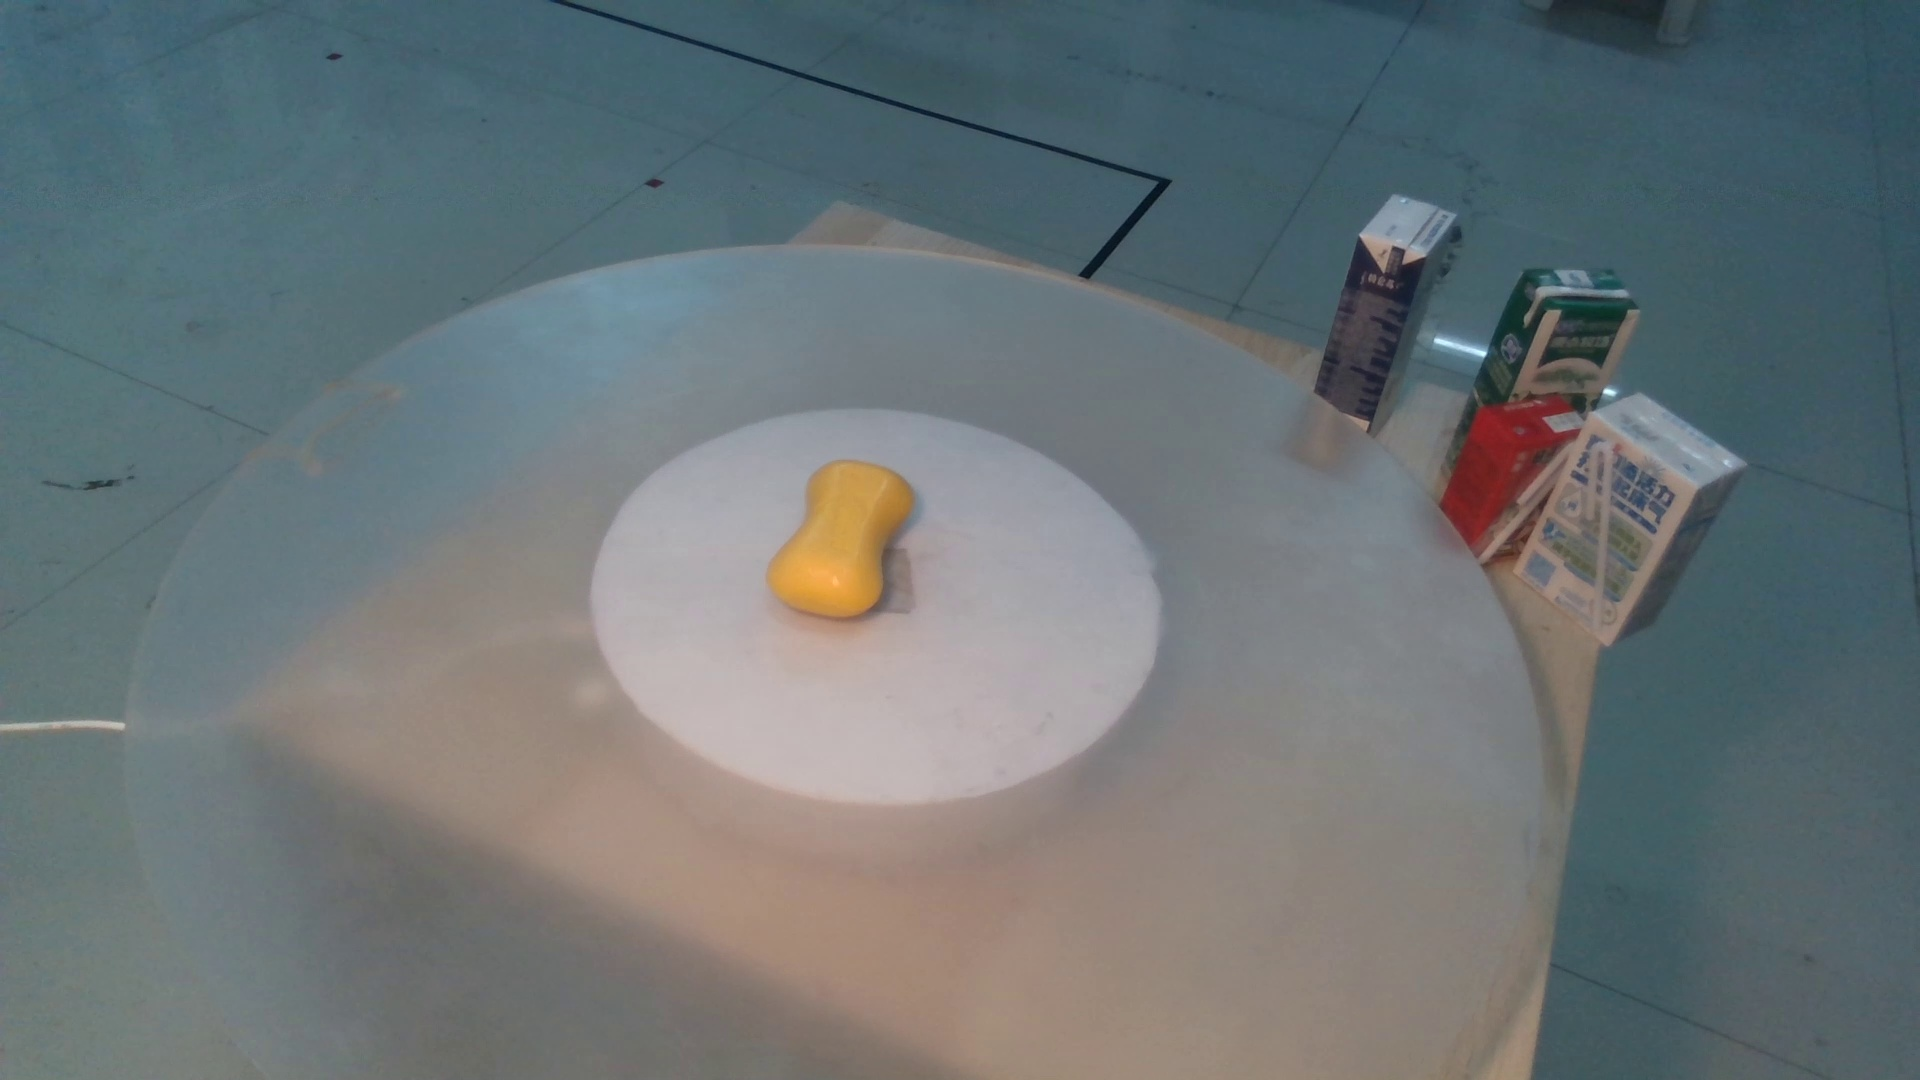CA003_1: (732, 465, 960, 632)
